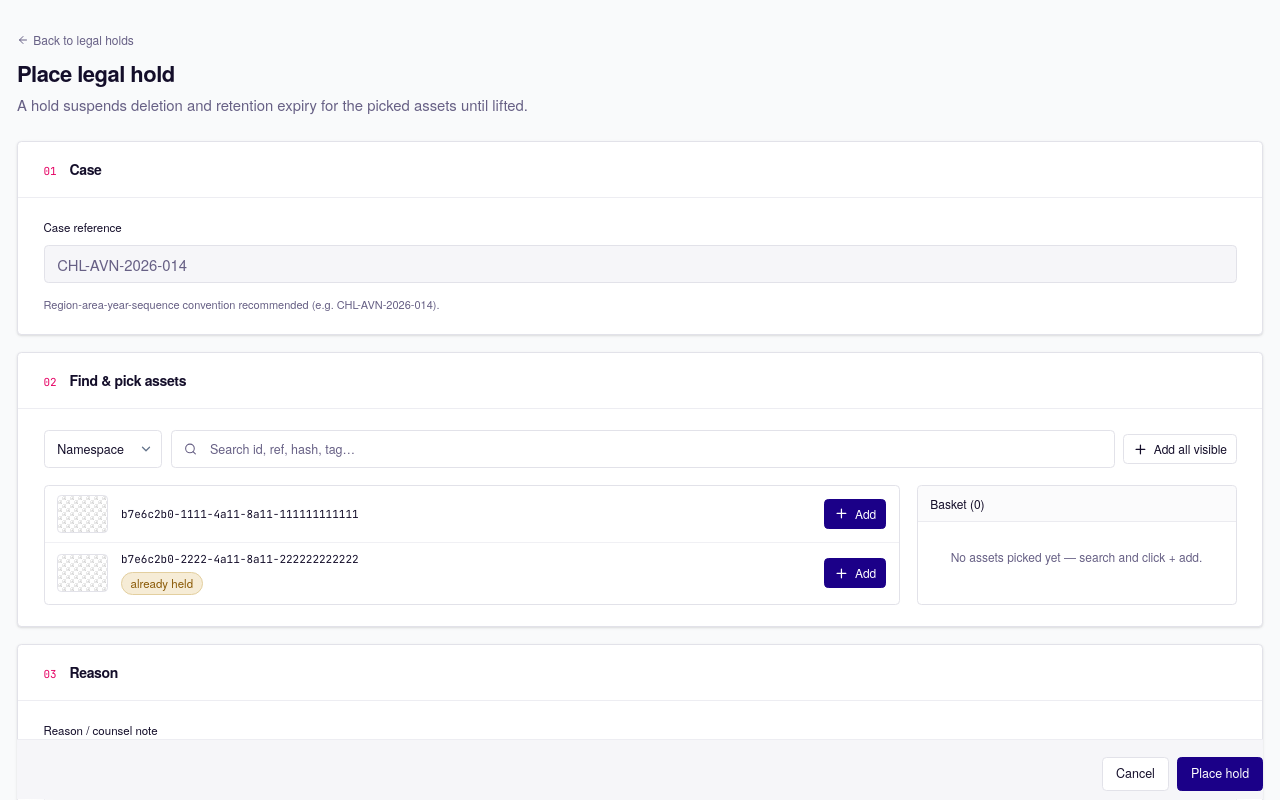
Test: PlaceLegalHoldPage › shows a field error when the case reference is too short on submit
This screenshot has width=1280, height=800.
Type "AB" into the field labelled "Case reference" at point(640, 264), box [44, 245, 1236, 283]
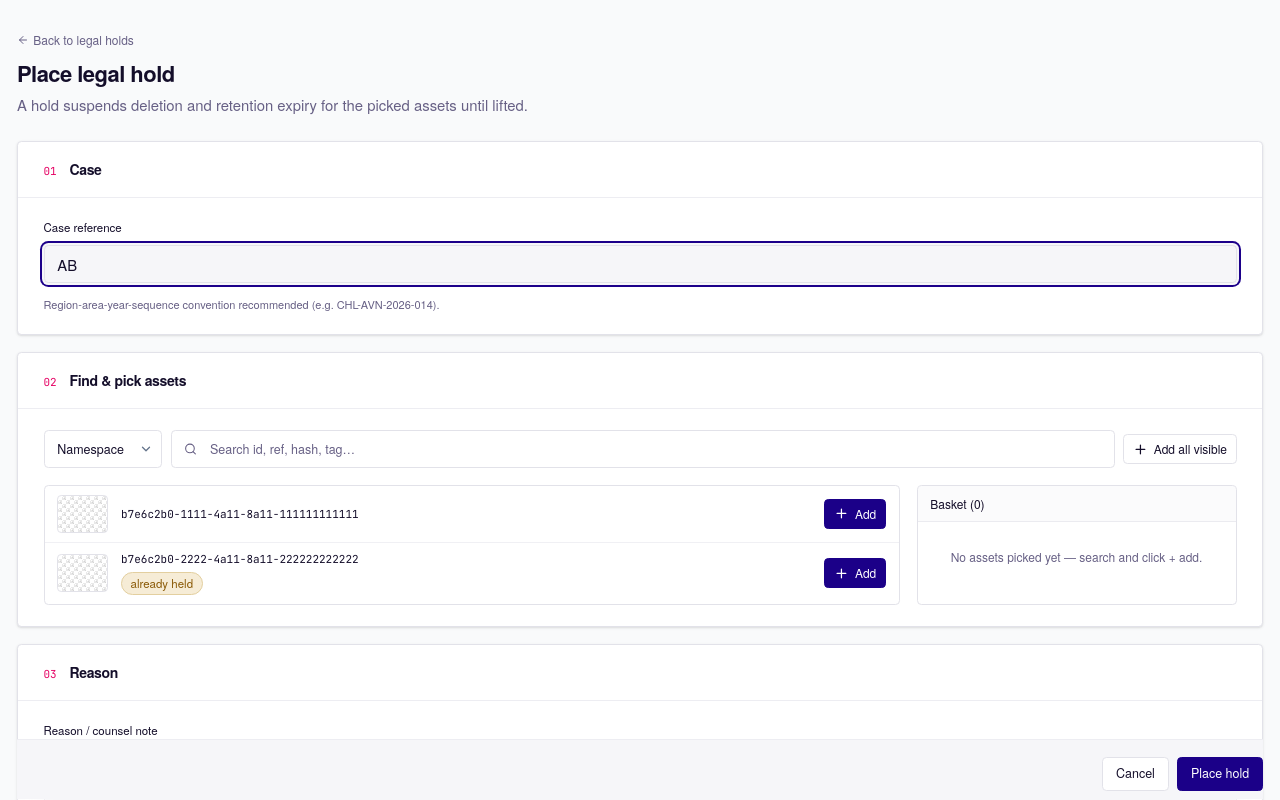
Click the button "Place hold" at point(1220, 774), box [1177, 758, 1263, 792]
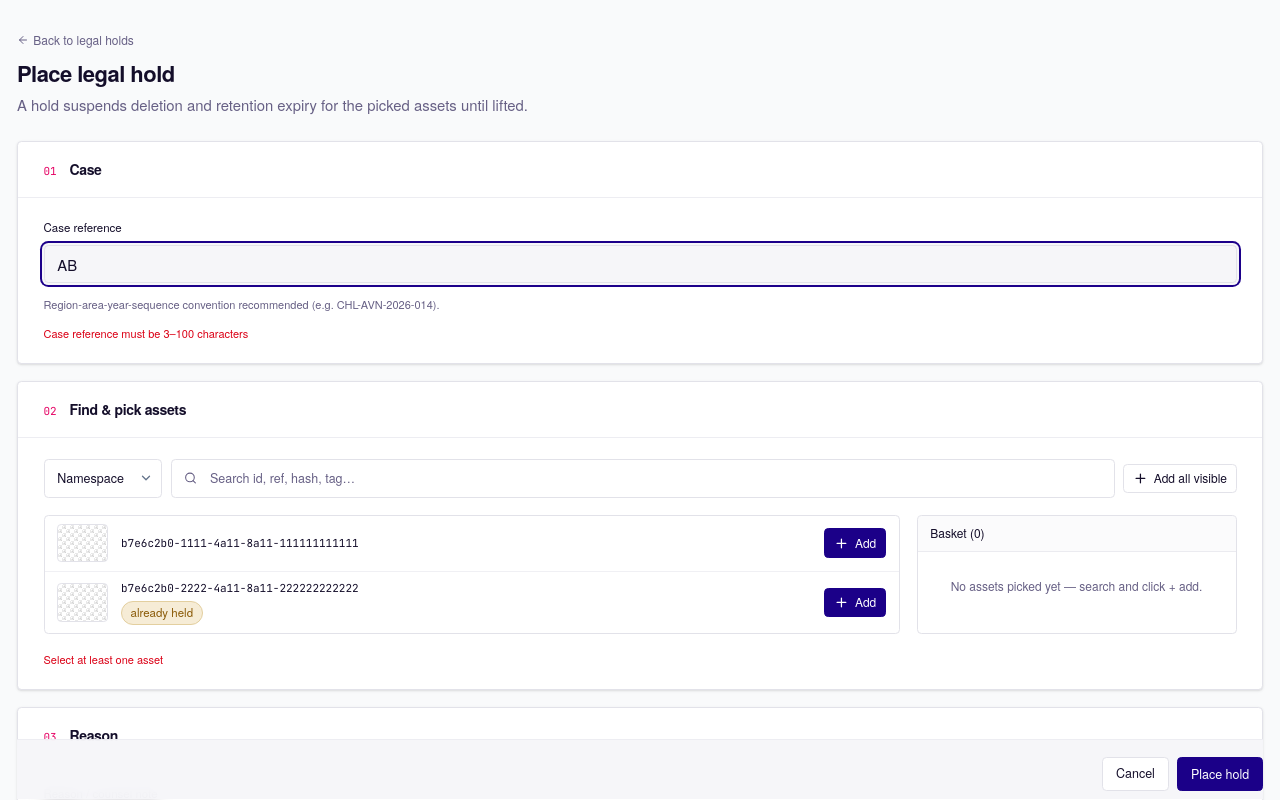
Expected: the text "Case reference must be 3–100 characters" is shown, [44, 325, 248, 341]
